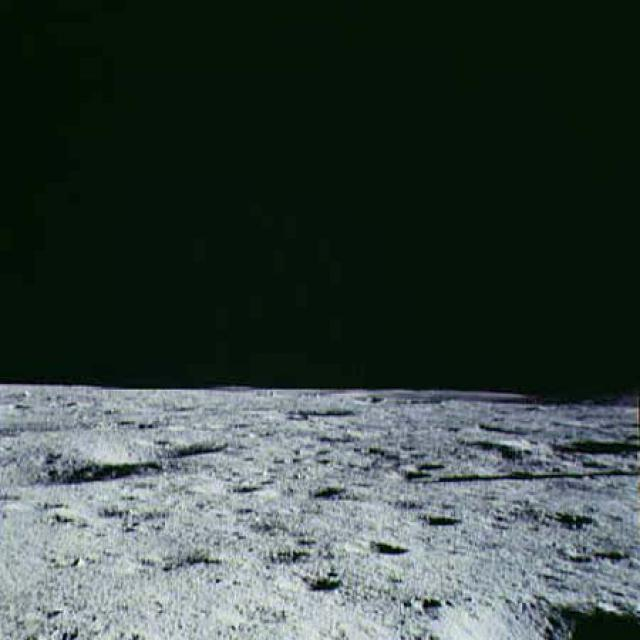crater: (418, 562, 639, 638), (0, 431, 152, 506), (152, 414, 253, 463), (140, 538, 246, 583), (183, 471, 271, 509), (287, 482, 387, 511), (339, 524, 406, 562), (280, 563, 362, 594), (406, 506, 474, 540)
